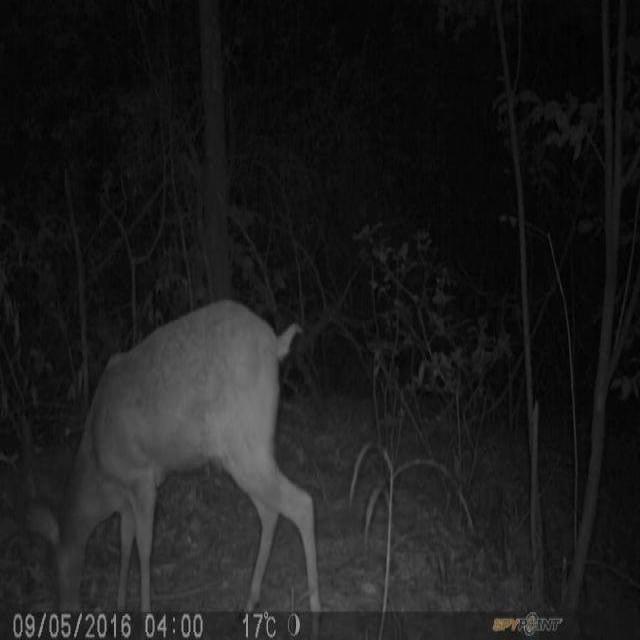deer: (25, 299, 322, 613)
